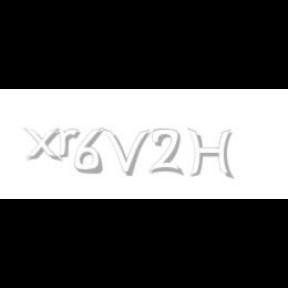2: (148, 128, 182, 176)
6: (74, 128, 104, 176)
H: (187, 128, 233, 180)
V: (102, 128, 150, 176)
r: (56, 128, 84, 158)
x: (23, 128, 65, 162)
